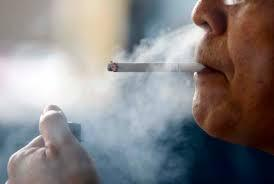smoke: (0, 7, 219, 184)
